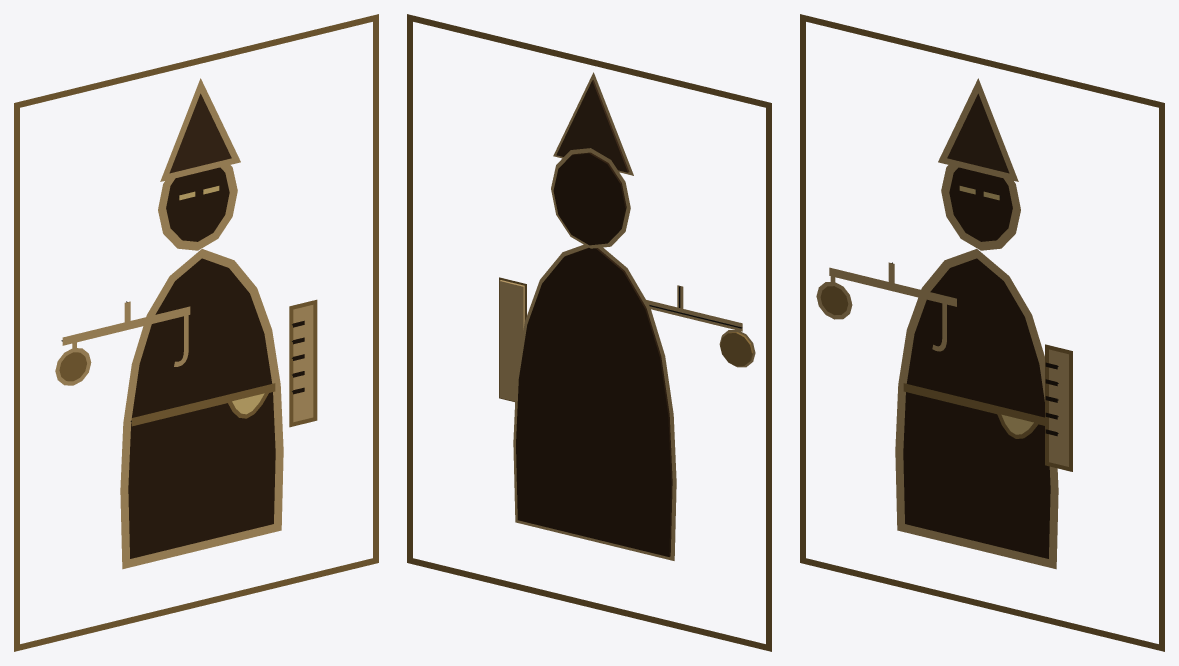
File: npc-perekupshik-arshak.glb
3 renders of one model, left to right at view 1: azimuth 30°, elevation 25°; view 2: azimuth 150°, elevation 25°; view 3: azimuth 330°, elevation 25°, orthographic.
Visible parts, largest first — view 1: npc-perekupshik-arshak; view 2: npc-perekupshik-arshak; view 3: npc-perekupshik-arshak.
Part boxes in pixels (box(x1,y1,x2,y2)): npc-perekupshik-arshak: box(14, 14, 378, 651); npc-perekupshik-arshak: box(407, 14, 771, 651); npc-perekupshik-arshak: box(800, 14, 1164, 651).
Bounding box in the file's own units: 1.14 × 1.64 × 0.0904.
